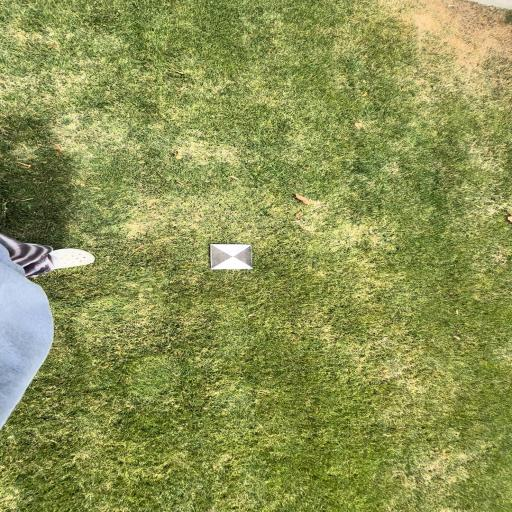target: (210, 244, 254, 270)
